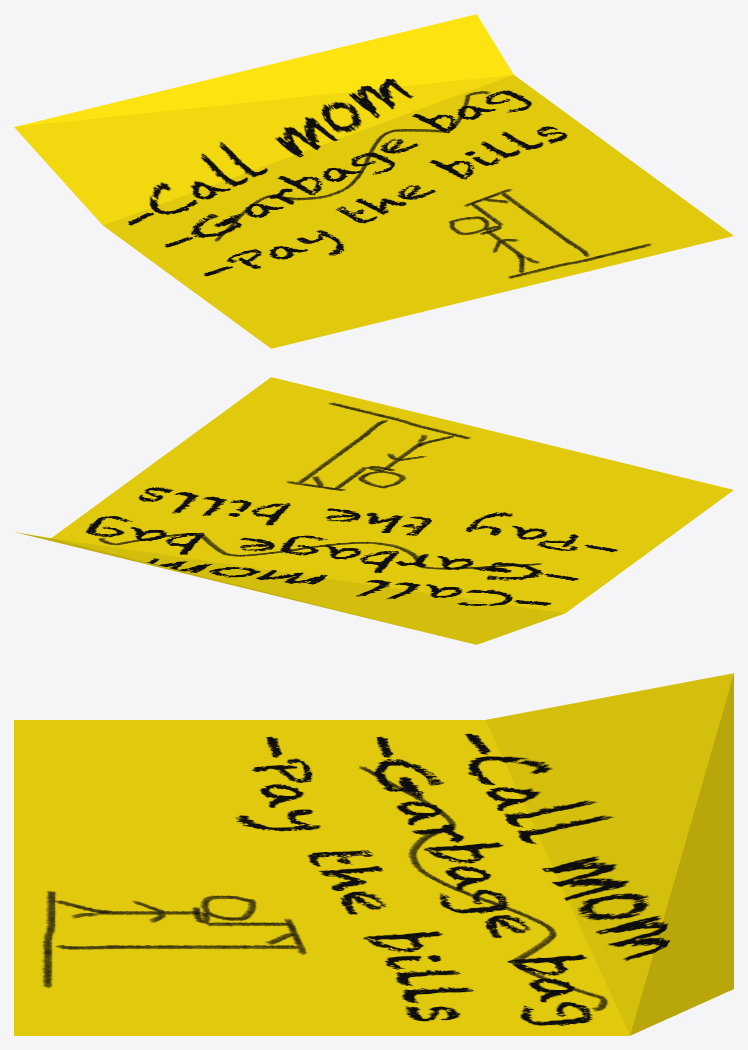
The model's file is PostIt03.glb.
3 renders of one model, top to bottom at view 1: azimuth 30°, elevation 25°; view 2: azimuth 150°, elevation 25°; view 3: azimuth 270°, elevation 25°, orthographic. The views are drawn at different scales.
Parts seen in each view (by area): view 1: PostIt3; view 2: PostIt3; view 3: PostIt3.
Boxes of the visible parts, bbox=[...] form: PostIt3: bbox=[14, 14, 733, 348]; PostIt3: bbox=[16, 377, 733, 644]; PostIt3: bbox=[14, 673, 733, 1035].
Size of the model in its own units: 0.0886 by 0.00612 by 0.0854.
Materials: 1 (1 with a texture image).
